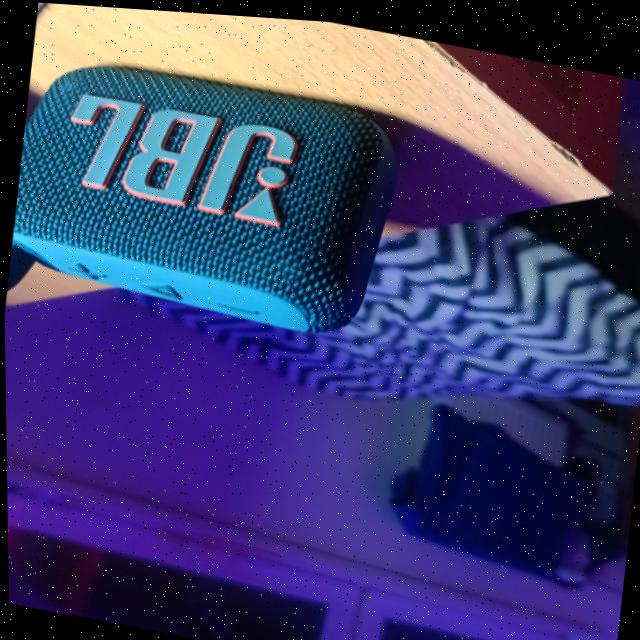column JBL: (3, 33, 409, 345)
